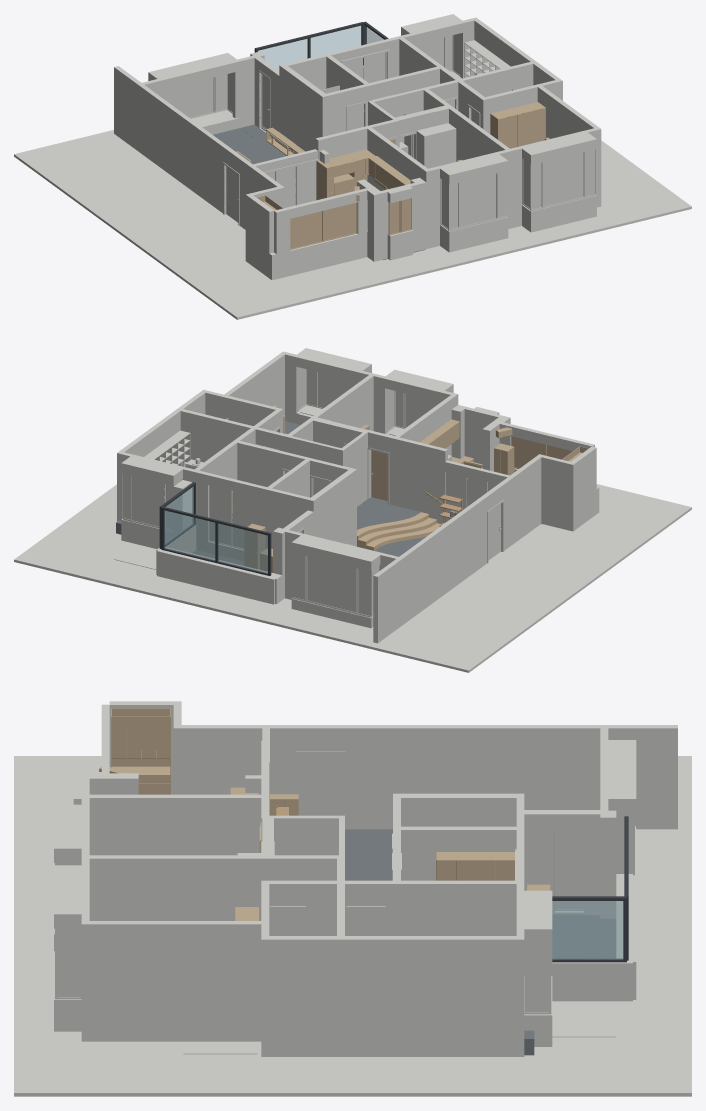
The model's file is interaction_proxy.glb.
3 views of the same model, one above another, from view 1: azimuth 30°, elevation 25°; view 2: azimuth 150°, elevation 25°; view 3: azimuth 270°, elevation 25° (orthographic). The views are drawn at different scales.
Parts seen in each view (by area): view 1: SITE_GROUND.001, VIEW_WALL_W_wall_md_0006.001, VIEW_WALL_LIVING_FIX_GUEST_BATH_FULL_WALL.001, VIEW_WALL_W_wall_md_0042.001, VIEW_WALL_W_wall_md_0035.001, V4_W-MB-S_FRONT_GLASS_1.001, VIEW_WALL_W_wall_md_0034.001, V4_W-SMB-S_FRONT_GLASS_1.001, VIEW_WALL_W_wall_md_0007.001, VIEW_WALL_W_wall_md_0021.001, VIEW_WALL_W_wall_md_0030.001, FLOOR_LOWER.001 (+45 smaller); view 2: SITE_GROUND.001, VIEW_WALL_W_wall_md_0006.001, VIEW_WALL_W_wall_md_0062.001, VIEW_WALL_W_wall_md_0044.001, VIEW_WALL_W_wall_md_0005.001, VIEW_WALL_W_wall_md_0055.001, VIEW_WALL_W_wall_md_0043.001, VIEW_WALL_LIVING_FIX_GUEST_BATH_FULL_WALL.001, LIVING_FIX_BAY_FRONT_GLASS_1.001, VIEW_WALL_W_wall_md_0049.001, NORTH_BALCONY_GLASS_NORTH_B.001, VIEW_WALL_W_wall_md_0007.001 (+54 smaller); view 3: SITE_GROUND.001, VIEW_WALL_W_wall_md_0030.001, VIEW_WALL_W_wall_md_0033.001, VIEW_WALL_W_wall_md_0006.001, VIEW_WALL_W_wall_md_0021.001, VIEW_WALL_W_wall_md_0015.001, VIEW_WALL_W_wall_md_0032.001, VIEW_WALL_W_wall_md_0005.001, VIEW_WALL_W_wall_md_0025.001, FLOOR_LOWER.001, VIEW_WALL_W_wall_md_0007.001, NORTH_BALCONY_GLASS_EAST.001 (+38 smaller).
Boxes of the visible parts, x1=… form: SITE_GROUND.001: x1=14, y1=128, x2=691, y2=319; VIEW_WALL_W_wall_md_0006.001: x1=139, y1=85, x2=227, y2=212; VIEW_WALL_LIVING_FIX_GUEST_BATH_FULL_WALL.001: x1=282, y1=66, x2=325, y2=153; VIEW_WALL_W_wall_md_0042.001: x1=276, y1=232, x2=367, y2=278; VIEW_WALL_W_wall_md_0035.001: x1=533, y1=139, x2=594, y2=231; V4_W-MB-S_FRONT_GLASS_1.001: x1=543, y1=152, x2=583, y2=206; VIEW_WALL_W_wall_md_0034.001: x1=451, y1=161, x2=505, y2=251; V4_W-SMB-S_FRONT_GLASS_1.001: x1=460, y1=174, x2=496, y2=226; VIEW_WALL_W_wall_md_0007.001: x1=114, y1=66, x2=141, y2=150; VIEW_WALL_W_wall_md_0021.001: x1=449, y1=107, x2=509, y2=161; VIEW_WALL_W_wall_md_0030.001: x1=537, y1=86, x2=598, y2=138; FLOOR_LOWER.001: x1=213, y1=124, x2=425, y2=259; SITE_GROUND.001: x1=14, y1=484, x2=691, y2=672; VIEW_WALL_W_wall_md_0006.001: x1=399, y1=495, x2=487, y2=624; VIEW_WALL_W_wall_md_0062.001: x1=157, y1=547, x2=277, y2=604; VIEW_WALL_W_wall_md_0044.001: x1=396, y1=437, x2=441, y2=523; VIEW_WALL_W_wall_md_0005.001: x1=499, y1=456, x2=541, y2=550; VIEW_WALL_W_wall_md_0055.001: x1=196, y1=470, x2=266, y2=561; VIEW_WALL_W_wall_md_0043.001: x1=541, y1=455, x2=575, y2=531; VIEW_WALL_LIVING_FIX_GUEST_BATH_FULL_WALL.001: x1=311, y1=470, x2=354, y2=545; LIVING_FIX_BAY_FRONT_GLASS_1.001: x1=307, y1=556, x2=356, y2=612; VIEW_WALL_W_wall_md_0049.001: x1=180, y1=409, x2=253, y2=462; NORTH_BALCONY_GLASS_NORTH_B.001: x1=164, y1=510, x2=215, y2=560; VIEW_WALL_W_wall_md_0007.001: x1=373, y1=559, x2=400, y2=643; SITE_GROUND.001: x1=14, y1=756, x2=691, y2=1096; VIEW_WALL_W_wall_md_0030.001: x1=89, y1=921, x2=261, y2=1041; VIEW_WALL_W_wall_md_0033.001: x1=345, y1=936, x2=516, y2=1056; VIEW_WALL_W_wall_md_0006.001: x1=345, y1=725, x2=600, y2=829; VIEW_WALL_W_wall_md_0021.001: x1=89, y1=855, x2=261, y2=920; VIEW_WALL_W_wall_md_0015.001: x1=89, y1=794, x2=261, y2=855; VIEW_WALL_W_wall_md_0032.001: x1=261, y1=936, x2=336, y2=1056; VIEW_WALL_W_wall_md_0005.001: x1=181, y1=725, x2=296, y2=794; VIEW_WALL_W_wall_md_0025.001: x1=401, y1=880, x2=516, y2=935; FLOOR_LOWER.001: x1=345, y1=829, x2=616, y2=958; VIEW_WALL_W_wall_md_0007.001: x1=608, y1=725, x2=677, y2=829; NORTH_BALCONY_GLASS_EAST.001: x1=552, y1=901, x2=623, y2=959.
Bounding box in the file's own units: 20 × 3.37 × 17.
